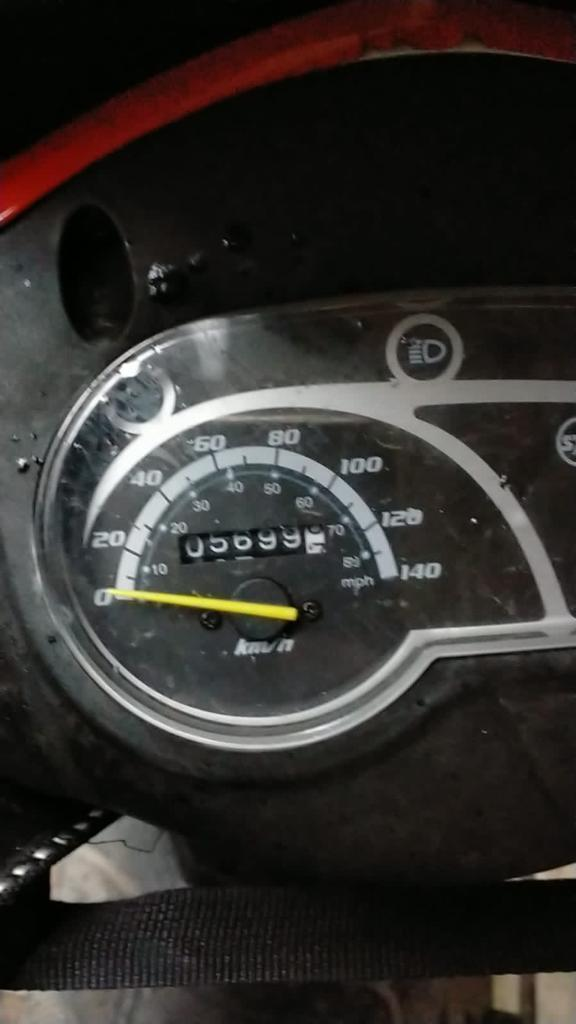0: (182, 536, 205, 559), (178, 521, 189, 533)
5: (208, 529, 228, 556)
6: (232, 529, 252, 553)
7: (308, 539, 329, 560), (327, 523, 335, 536)
9: (256, 524, 277, 554), (281, 524, 302, 552)
odometer: (174, 522, 335, 567)
